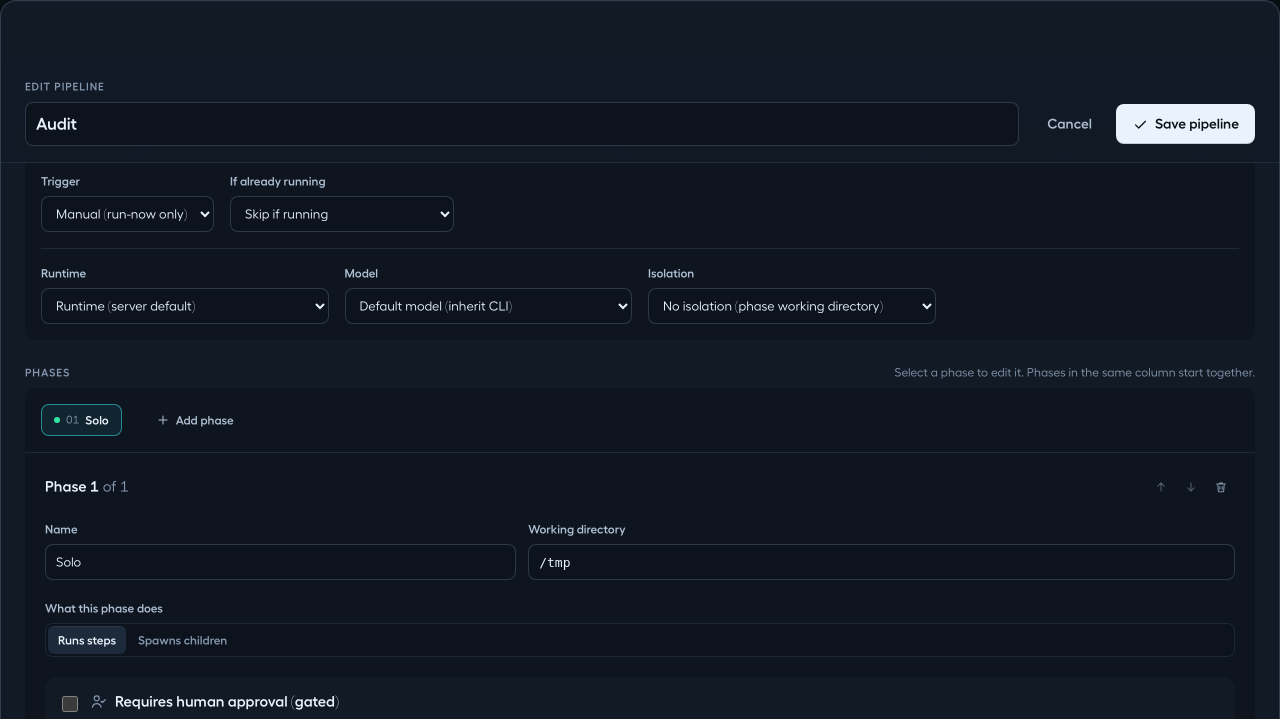
Scenario: authoring a spawn phase › says when no earlier phase has a result to read
Click the radio button labelled "Spawns children" at (183, 640), box top-left (128, 626), bottom-right (237, 654)
(page scrolled)
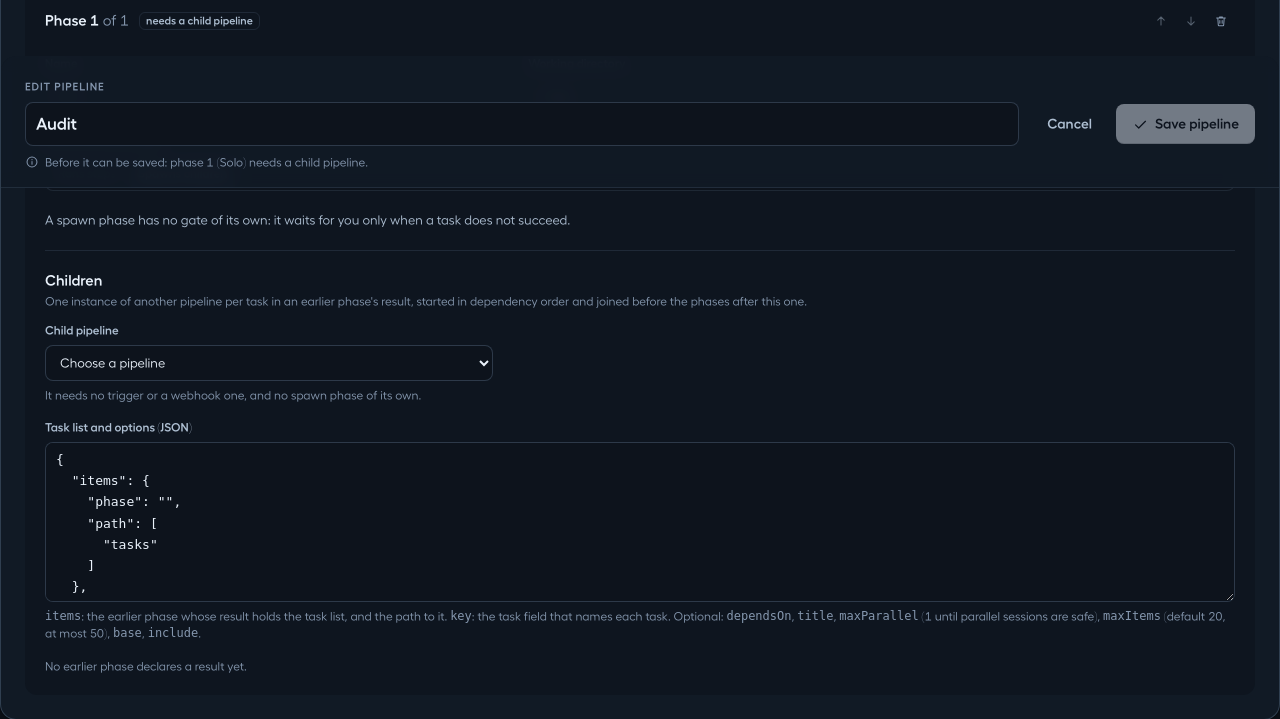
Check: the text with test id "spawn-sources" reads "No earlier phase declares a result yet.", box top-left (45, 660), bottom-right (247, 672)
